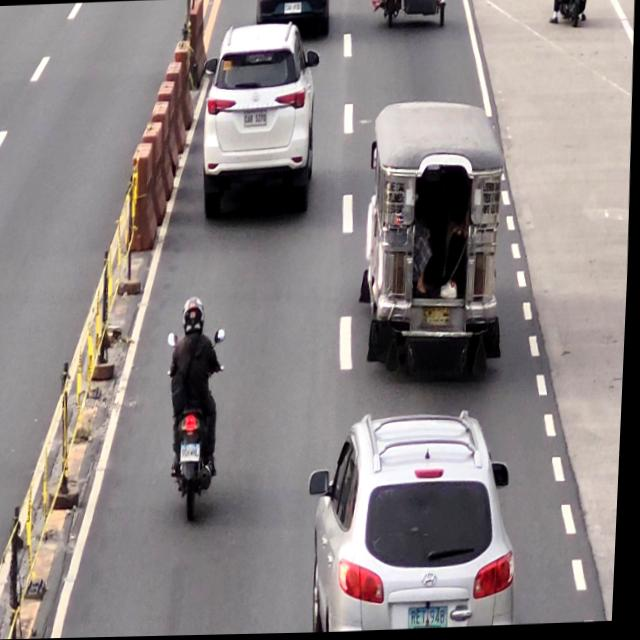Car: (316, 413, 523, 634), (206, 26, 316, 216)
Jeep: (359, 102, 511, 379)
License-Plate: (413, 605, 453, 630), (424, 308, 455, 330), (242, 109, 269, 132), (182, 442, 205, 462)
Motorcycle: (171, 297, 227, 502)
